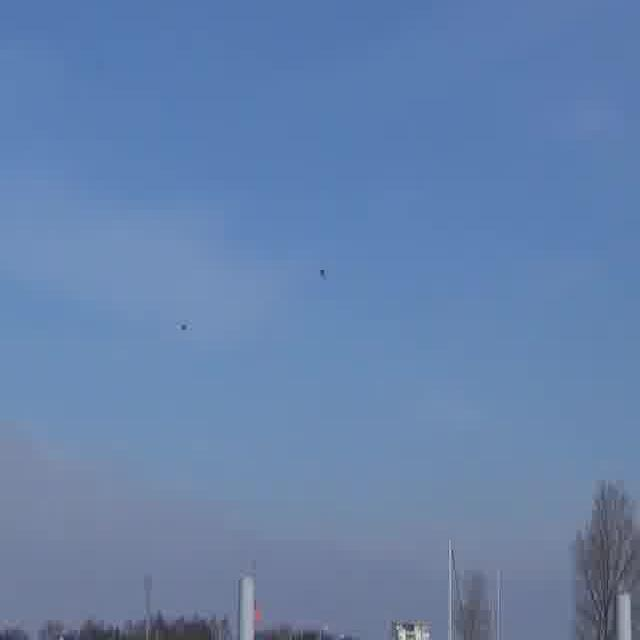bird: (315, 263, 330, 283), (176, 318, 190, 336)
